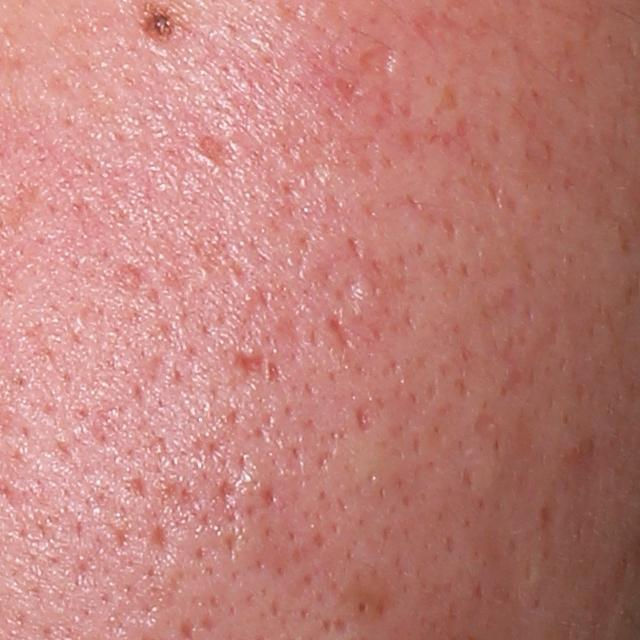atrophic_scar: (157, 477, 203, 524), (354, 41, 401, 80), (329, 268, 365, 313), (325, 316, 361, 349), (196, 134, 228, 170), (472, 408, 503, 442), (233, 351, 266, 380), (147, 523, 170, 558), (264, 355, 286, 388)
comedo: (350, 594, 372, 618)
